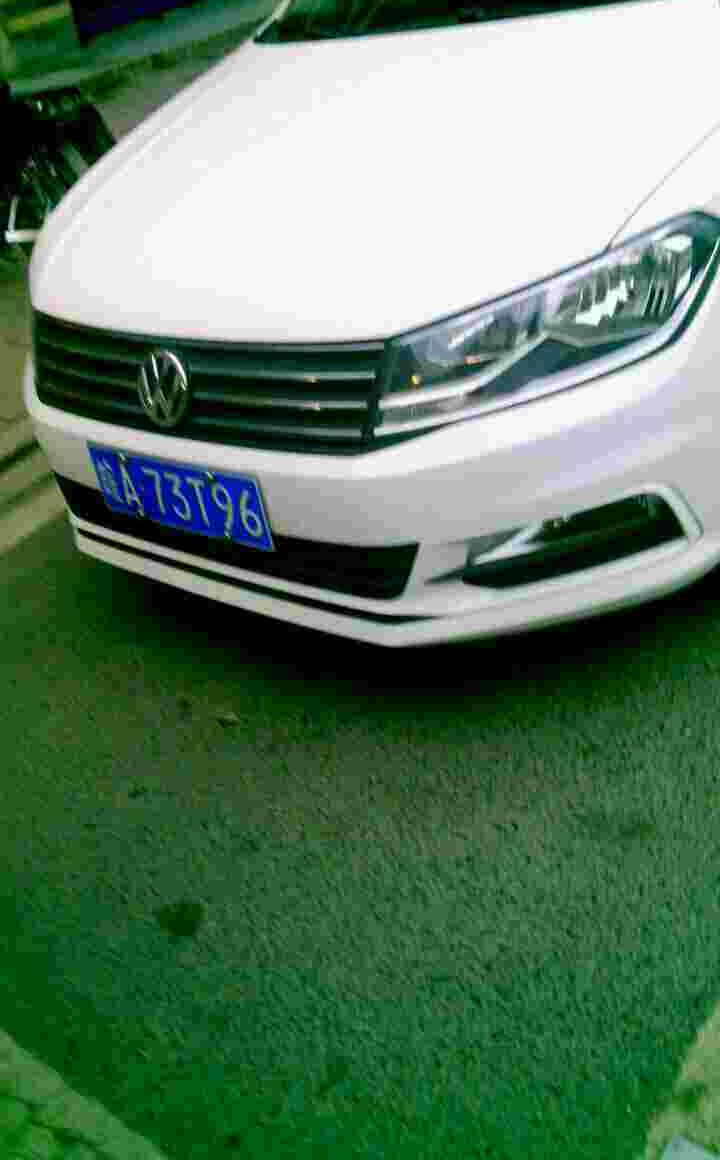plate: (78, 436, 101, 557)
